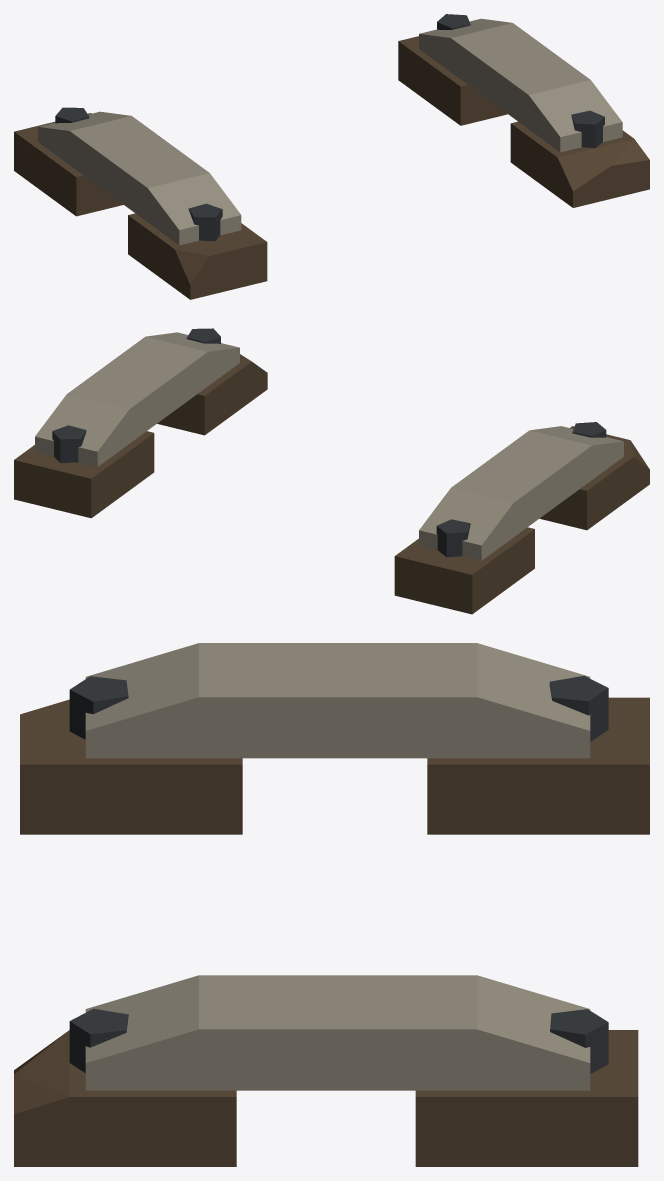
The model's file is SM_Prop_Airconditioner_Mount_01.glb.
The picture shows the model from 3 angles, top to bottom: view 1: azimuth 30°, elevation 25°; view 2: azimuth 150°, elevation 25°; view 3: azimuth 270°, elevation 25°; orthographic projection. The views are drawn at different scales.
Parts seen in each view (by area): view 1: SM_Prop_Airconditioner_Mount_01; view 2: SM_Prop_Airconditioner_Mount_01; view 3: SM_Prop_Airconditioner_Mount_01.
Boxes of the visible parts, x1,y1,x2,y2 form: SM_Prop_Airconditioner_Mount_01: (14,14,649,299); SM_Prop_Airconditioner_Mount_01: (14,328,649,614); SM_Prop_Airconditioner_Mount_01: (14,643,649,1166).
Bounding box in the file's own units: 0.8874 × 0.1359 × 0.5974.
1 material, 1 textured.
